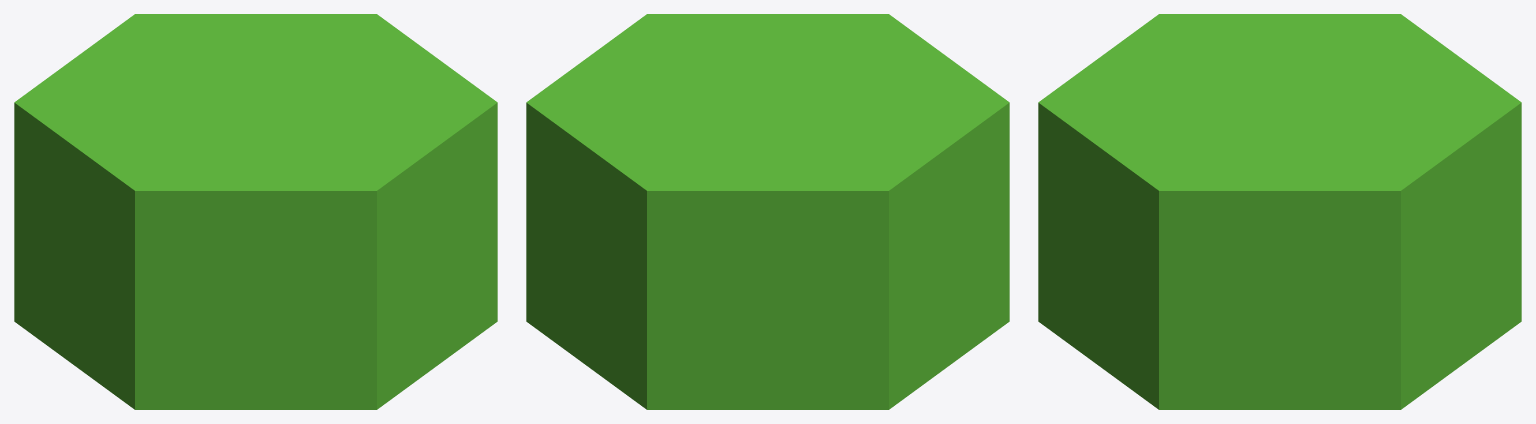
The model's file is Tile_Grass_01_Land.gltf.
3 views of the same model, side by side, from view 1: azimuth 30°, elevation 25°; view 2: azimuth 150°, elevation 25°; view 3: azimuth 270°, elevation 25° (orthographic).
Parts seen in each view (by area): view 1: Tile_Grass_01_Land; view 2: Tile_Grass_01_Land; view 3: Tile_Grass_01_Land.
Part boxes in pixels (x1,y1,x2,y2): Tile_Grass_01_Land: [14, 14, 497, 409]; Tile_Grass_01_Land: [526, 14, 1009, 409]; Tile_Grass_01_Land: [1038, 14, 1521, 409].
Size of the model in its own units: 1.73 by 1 by 2.
Materials: 1 (1 with a texture image).
